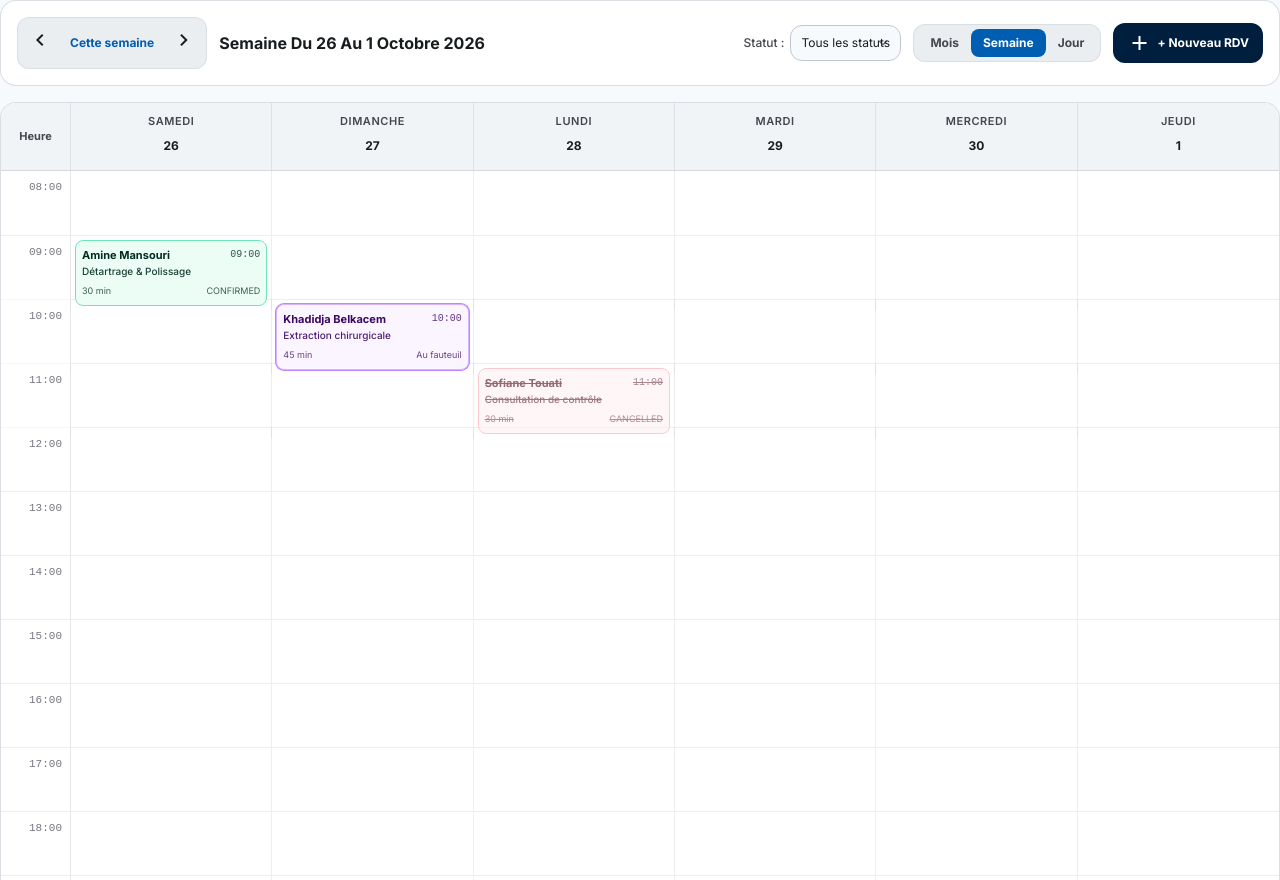
Test: FullCalendarView Frontend Tests (Month, Week, Day & Interactivity) › 2. Month View (Calculation of days starting on Saturday & Badges) › navigates to DAY view when clicking on a day cell
The image size is (1280, 880).
What coordinates should you click on to do the following:
click the button "Mois"
I would click on:
 (945, 43)
Its box is [918, 29, 971, 57].
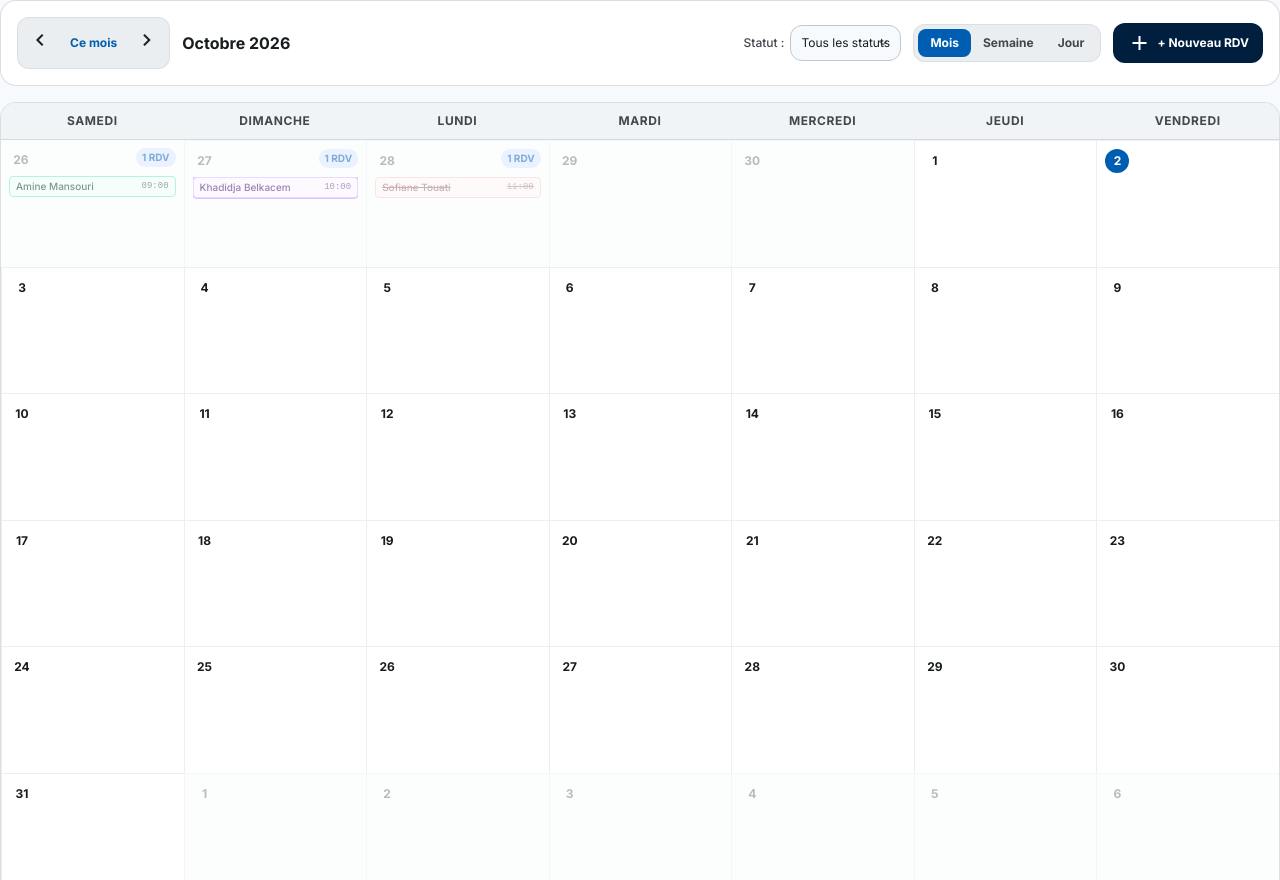
What coordinates should you click on to do the following:
click the element showing "26 1 RDV Amine Mansouri 09:00"
I would click on:
 (92, 203)
Its box is [1, 140, 184, 266].
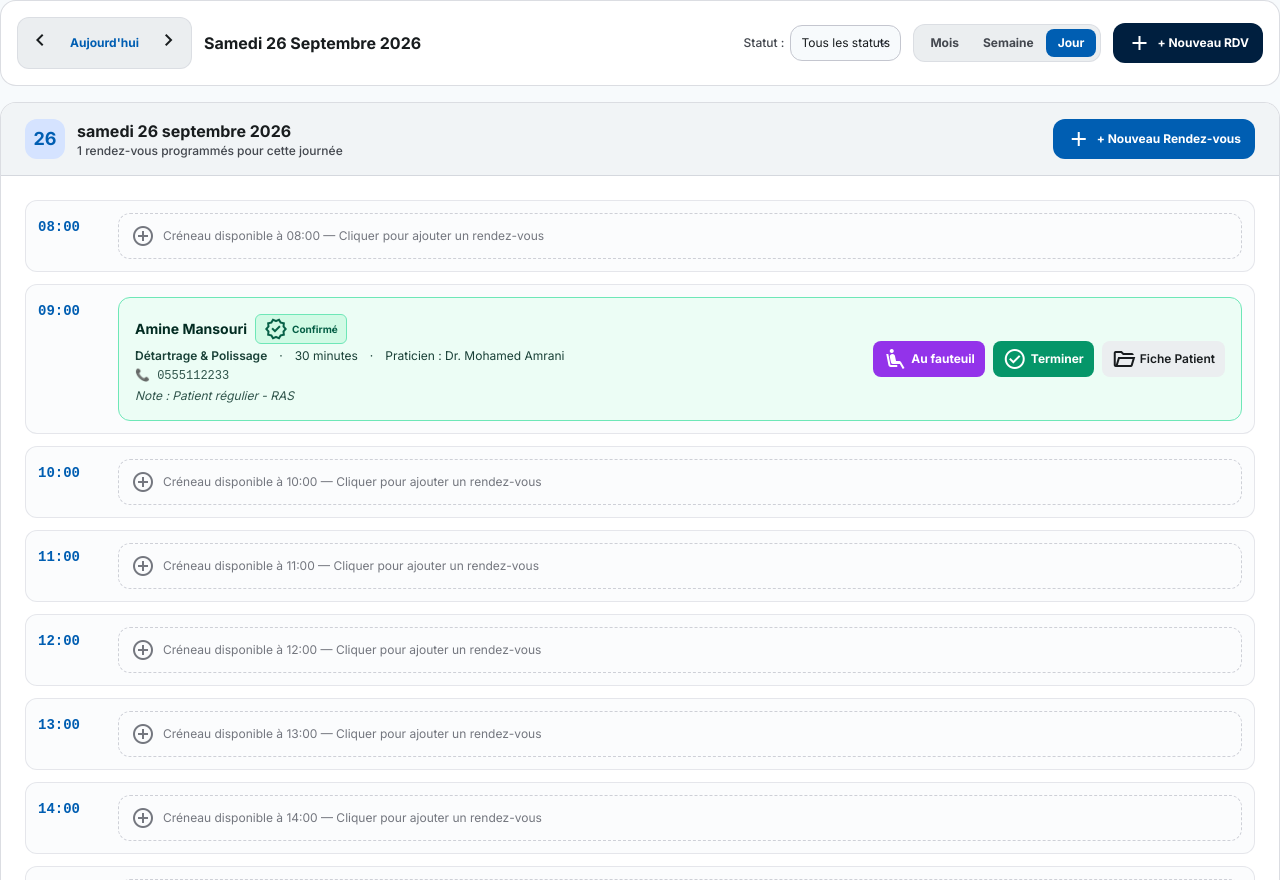
Check: the text "+ Nouveau Rendez-vous" is shown, box [1097, 131, 1241, 147]
